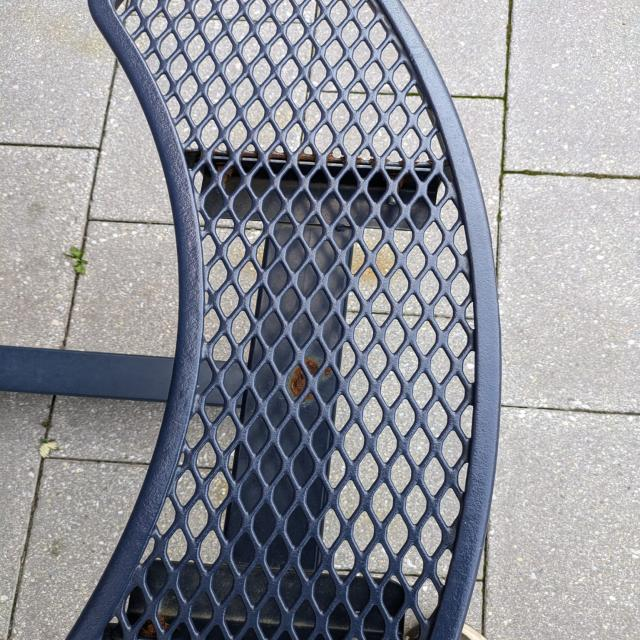Filiform Corrosion: (300, 392, 320, 430), (318, 367, 338, 403), (287, 366, 308, 400), (306, 351, 325, 378), (282, 422, 300, 450), (314, 426, 330, 453), (140, 621, 157, 639), (161, 616, 171, 630), (312, 344, 320, 352)
